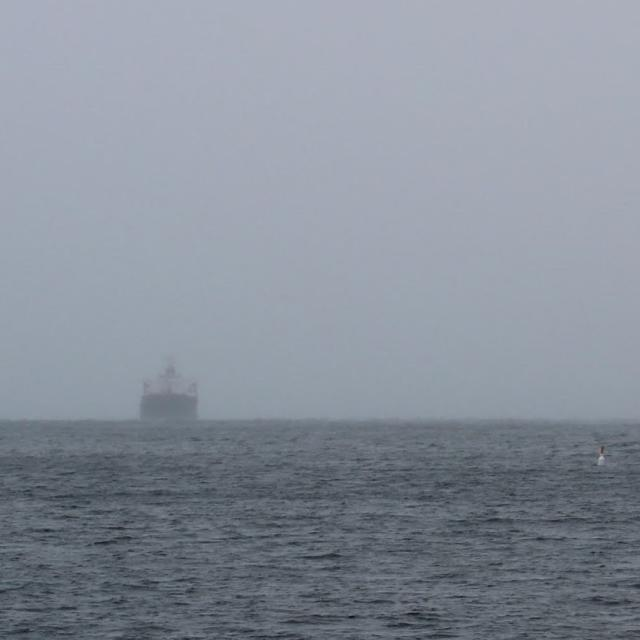cargoship: (136, 356, 207, 420)
